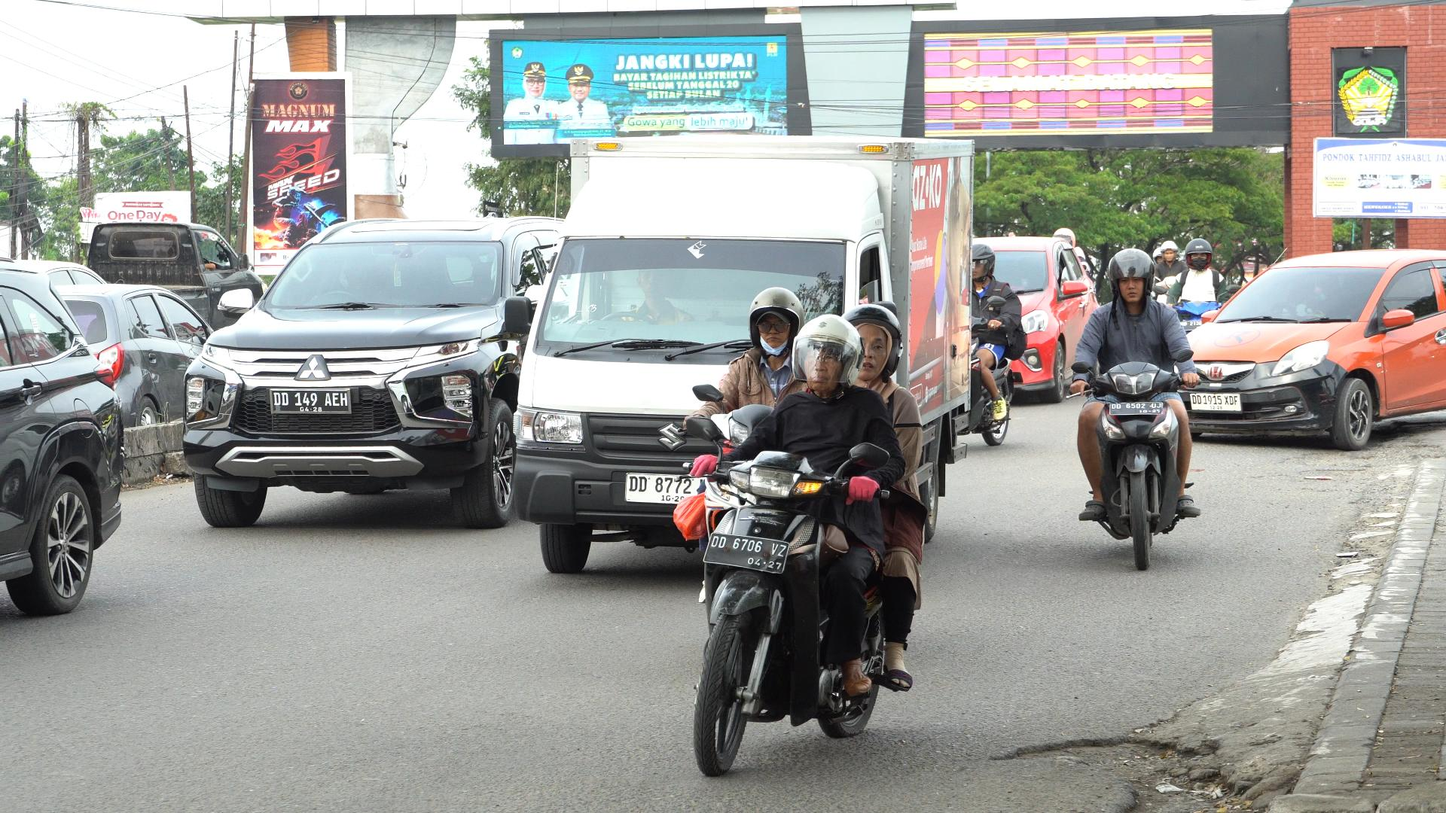number-plate: (703, 529, 789, 575), (1107, 396, 1166, 417), (1185, 393, 1242, 414)
